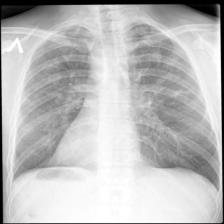tuberculosis: (2, 15, 223, 207)
